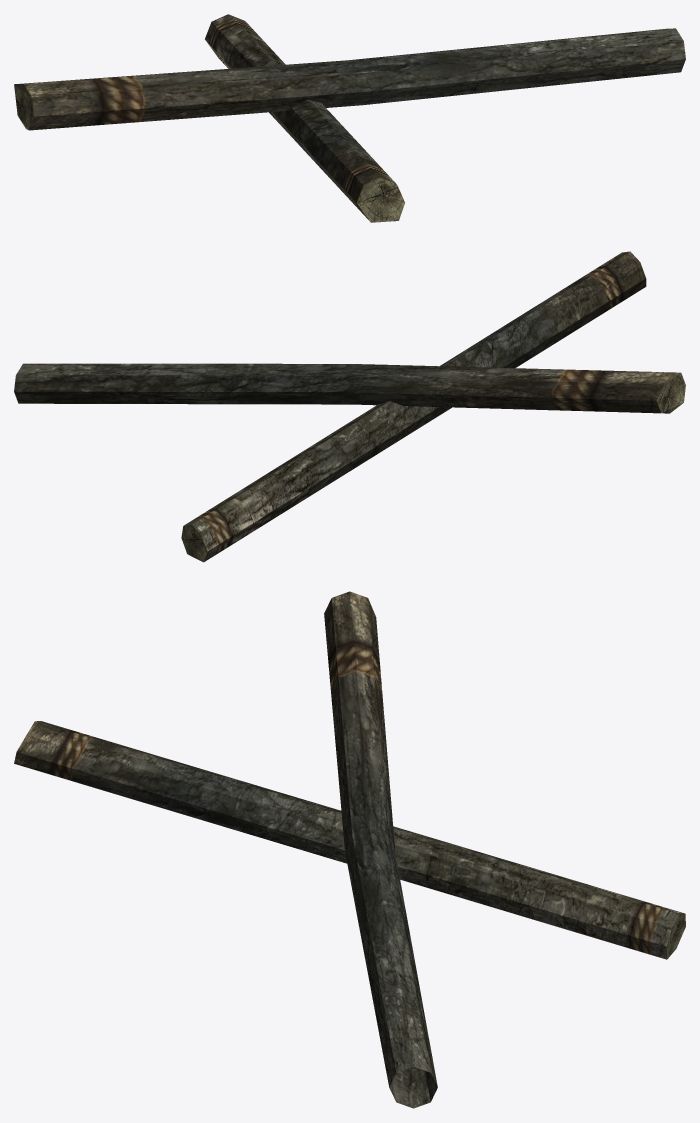
File: camp_woodhut_break04.fbx
3 renders of one model, top to bottom at view 1: azimuth 30°, elevation 25°; view 2: azimuth 150°, elevation 25°; view 3: azimuth 270°, elevation 25°, orthographic. The views are drawn at different scales.
Visible parts, largest first — view 1: camp_woodhut_break04; view 2: camp_woodhut_break04; view 3: camp_woodhut_break04.
Boxes of the visible parts, x1=… form: camp_woodhut_break04: x1=14, y1=14, x2=685, y2=222; camp_woodhut_break04: x1=14, y1=251, x2=685, y2=562; camp_woodhut_break04: x1=14, y1=591, x2=685, y2=1108.
Size of the model in its own units: 4.95 by 1.23 by 4.13.
